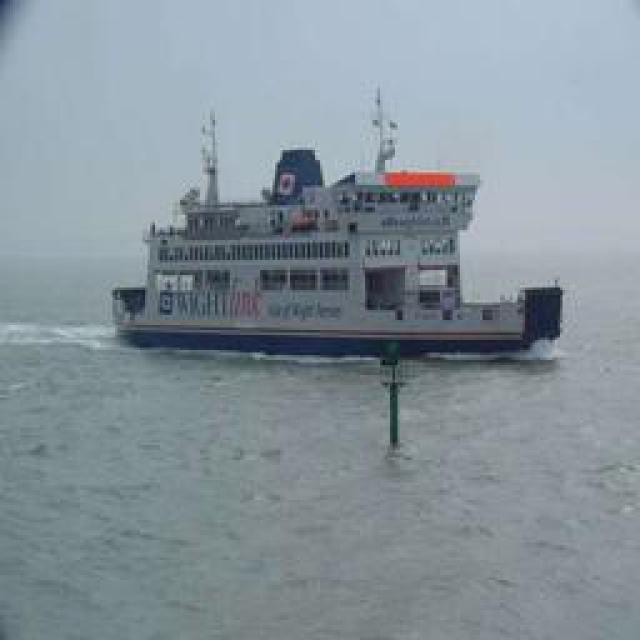Ship: (111, 83, 566, 361)
